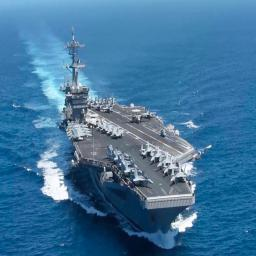Portanaves: (58, 27, 203, 240)
